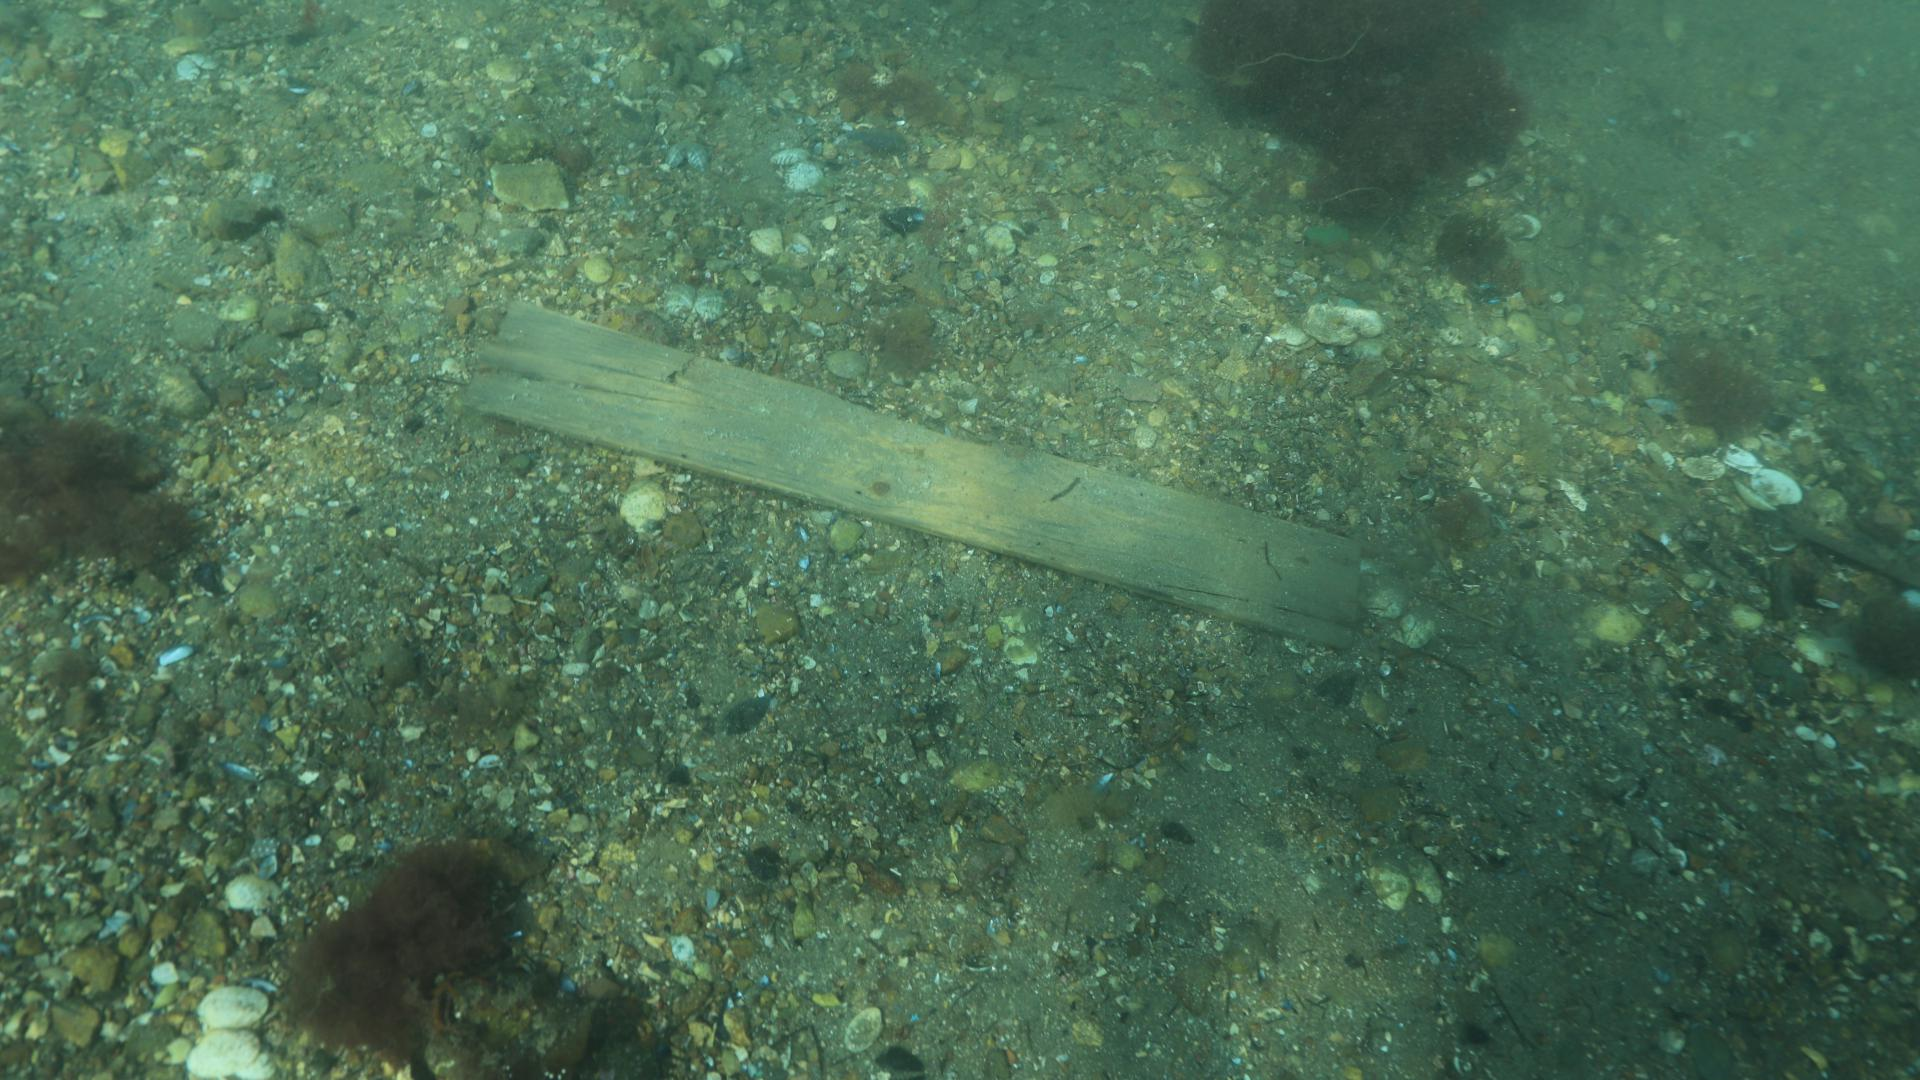wood: (458, 298, 1360, 651)
